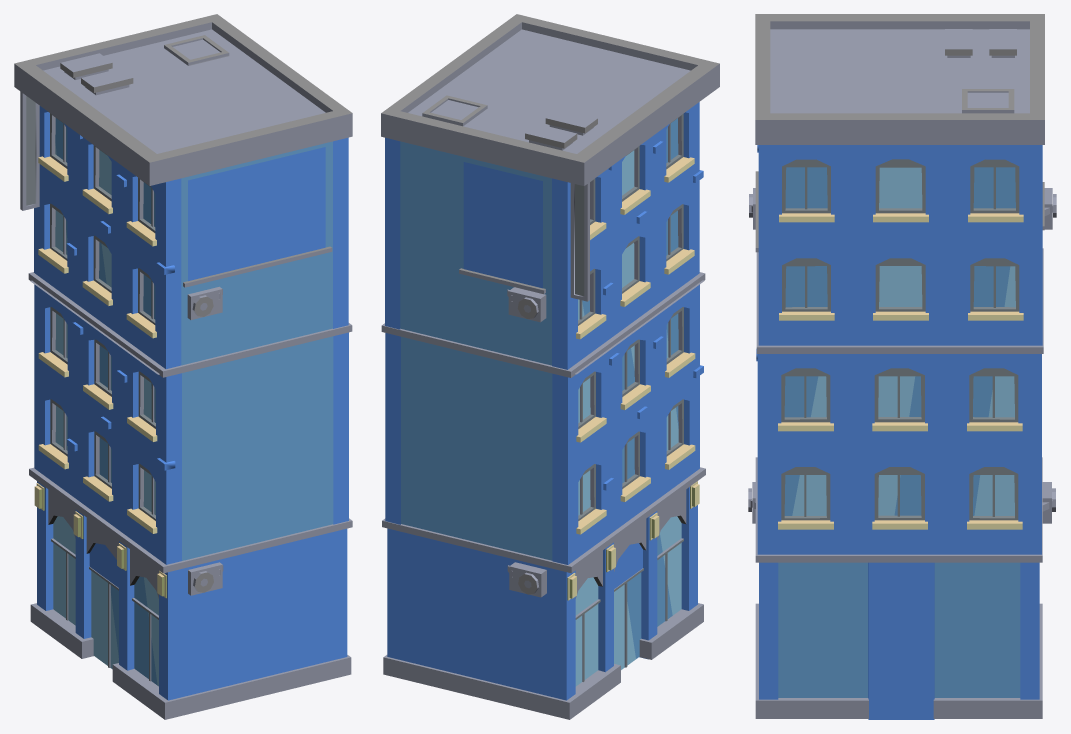
The model's file is putong_zhongxing16.fbx.
The picture shows the model from 3 angles, left to right: view 1: azimuth 30°, elevation 25°; view 2: azimuth 150°, elevation 25°; view 3: azimuth 270°, elevation 25°; orthographic projection. The views are drawn at different scales.
Parts seen in each view (by area): view 1: putong_zhongxing16; view 2: putong_zhongxing16; view 3: putong_zhongxing16.
Boxes of the visible parts, box(x1,y1,x2,y2) form: putong_zhongxing16: box(14, 14, 352, 719); putong_zhongxing16: box(381, 14, 719, 719); putong_zhongxing16: box(748, 14, 1056, 719).
Size of the model in its own units: 316 by 386 by 835.
